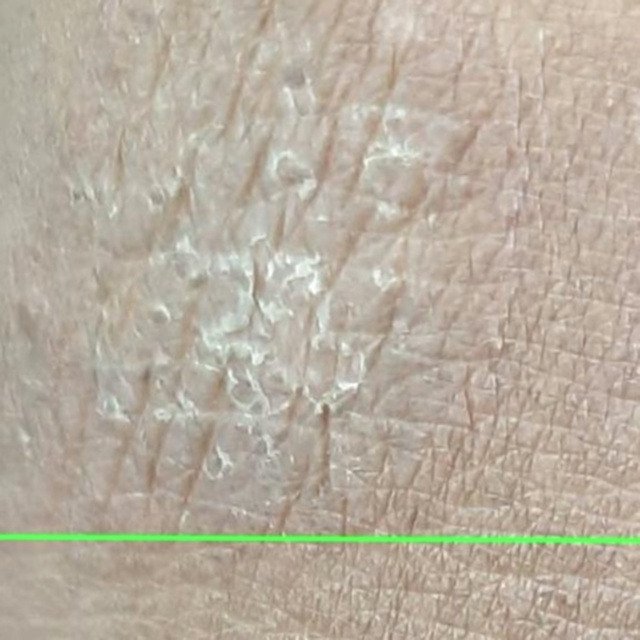Tinea Corporis: (0, 536, 639, 639)
